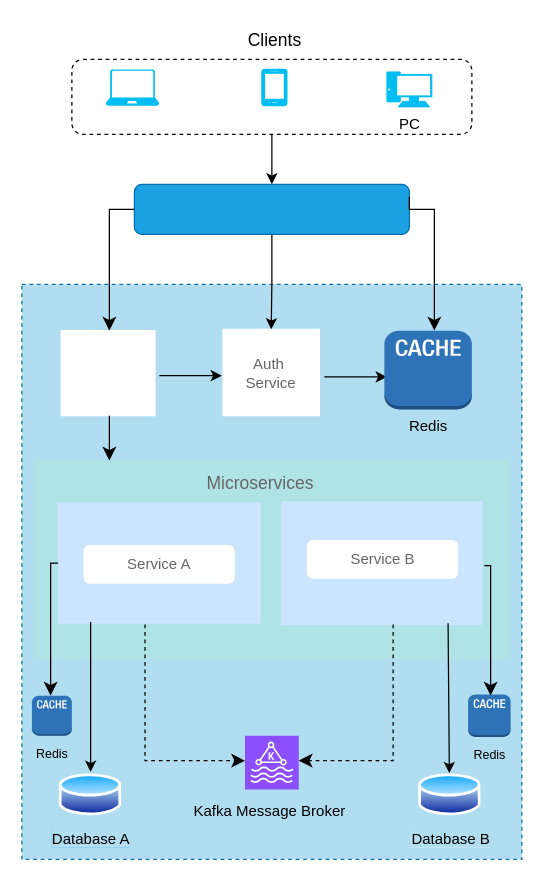
The diagram is 544 pixels wide and 881 high, and some of its shapes have lost their labels. Each missing label, with the centre of its shape:
API Gateway: point (271, 208)
Laptop: point (132, 87)
Mobile: point (274, 87)
Resource Proxy Server: point (107, 372)
